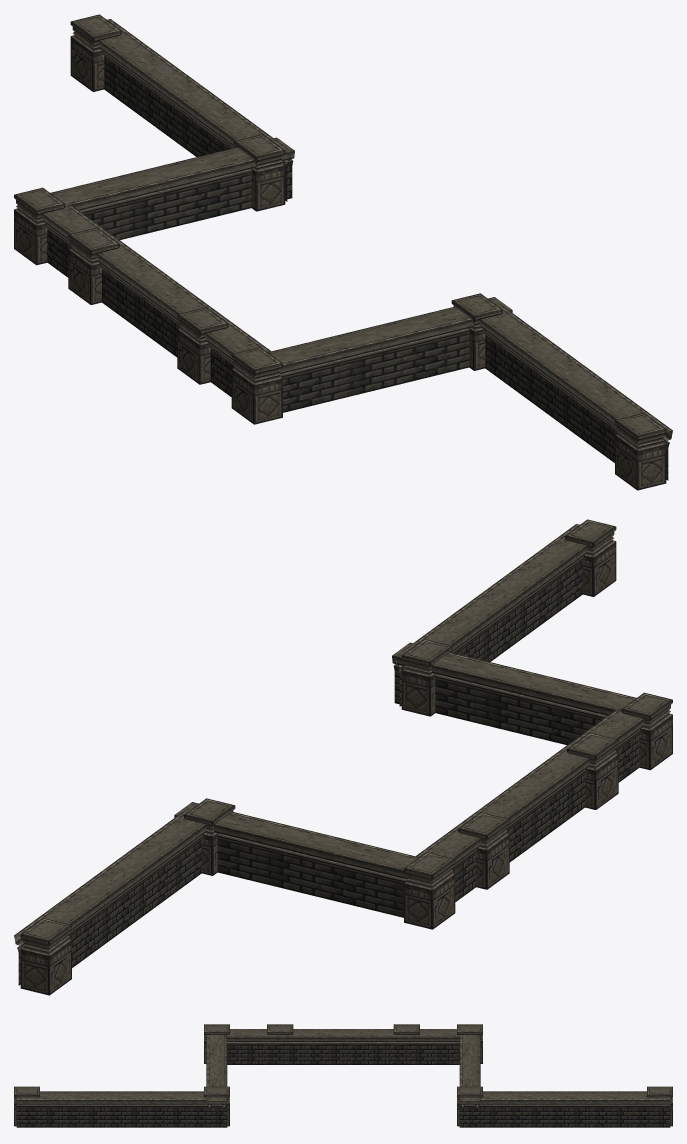
The model's file is EnvBdgMD_Courthouse_A_Outdoor_Base.FBX.
3 views of the same model, one above another, from view 1: azimuth 30°, elevation 25°; view 2: azimuth 150°, elevation 25°; view 3: azimuth 270°, elevation 25° (orthographic). The views are drawn at different scales.
Visible parts, largest first — view 1: EnvBdgMD_Courthouse_A_Outdoor_Base; view 2: EnvBdgMD_Courthouse_A_Outdoor_Base; view 3: EnvBdgMD_Courthouse_A_Outdoor_Base.
Part boxes in pixels (x1,y1,x2,y2): EnvBdgMD_Courthouse_A_Outdoor_Base: (14, 14, 672, 490); EnvBdgMD_Courthouse_A_Outdoor_Base: (14, 519, 672, 995); EnvBdgMD_Courthouse_A_Outdoor_Base: (14, 1024, 672, 1127).
Bounding box in the file's own units: 830 × 165 × 3124.
